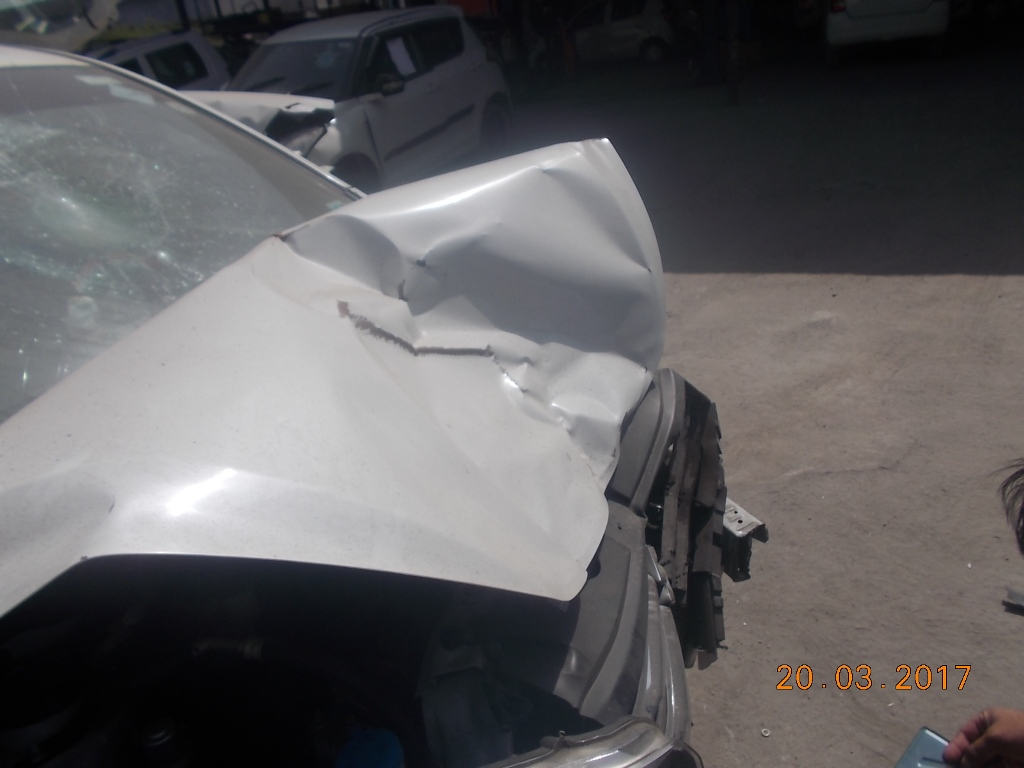Dent: (330, 205, 639, 436)
Shatter: (13, 123, 164, 293)
